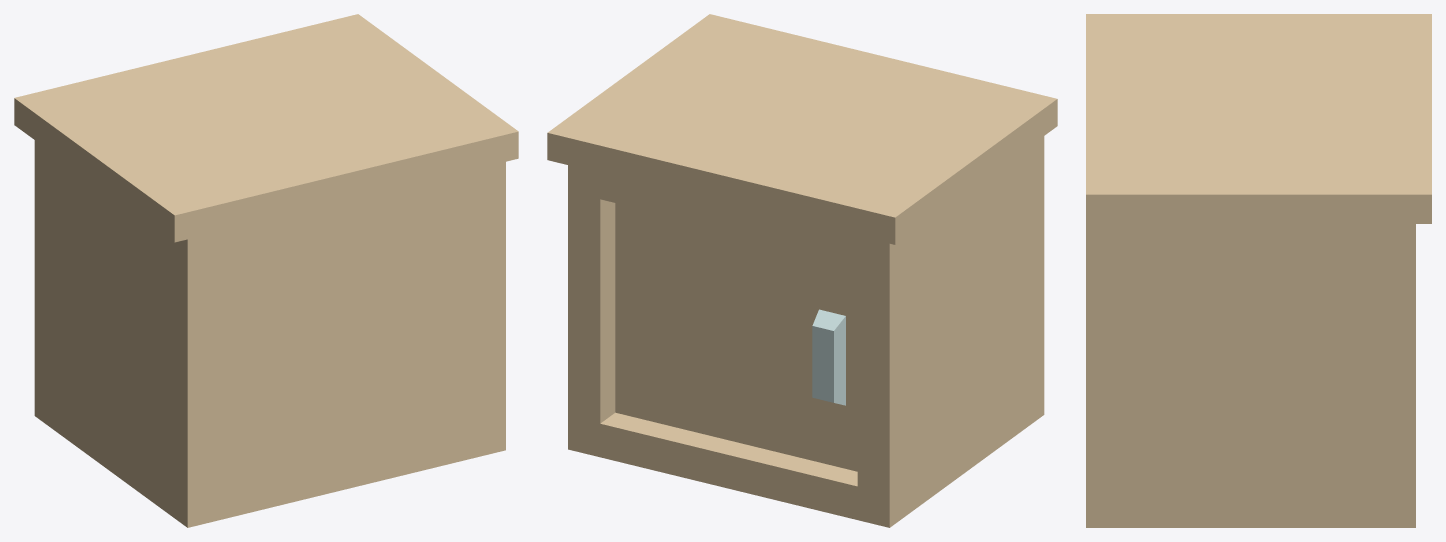
File: cabinetBed.glb
3 renders of one model, left to right at view 1: azimuth 30°, elevation 25°; view 2: azimuth 150°, elevation 25°; view 3: azimuth 270°, elevation 25°, orthographic. The views are drawn at different scales.
Parts seen in each view (by area): view 1: cabinetBed; view 2: cabinetBed; view 3: cabinetBed.
Boxes of the visible parts, <box> form: cabinetBed: <box>14,14,518,527</box>; cabinetBed: <box>547,14,1057,527</box>; cabinetBed: <box>1086,14,1431,527</box>.
Bounding box in the file's own units: 2.66 × 2.33 × 2.15.
